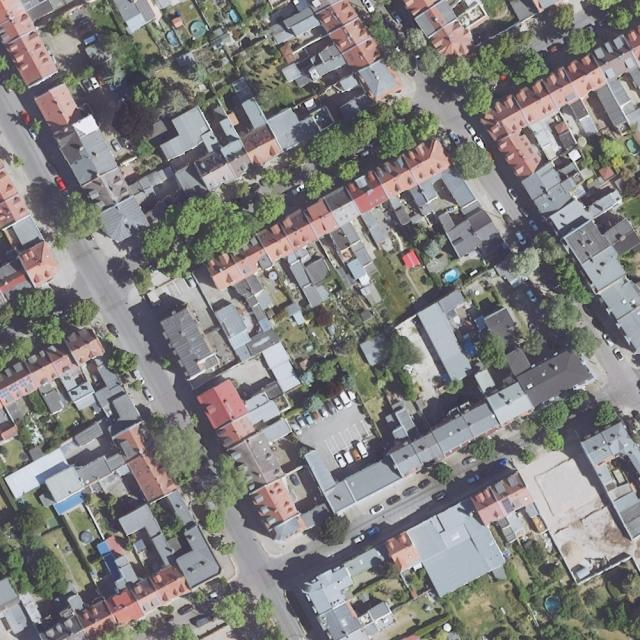PV: (230, 331, 252, 350), (500, 497, 515, 513), (260, 318, 272, 332), (1, 388, 10, 399), (10, 383, 20, 392), (19, 378, 27, 388)
